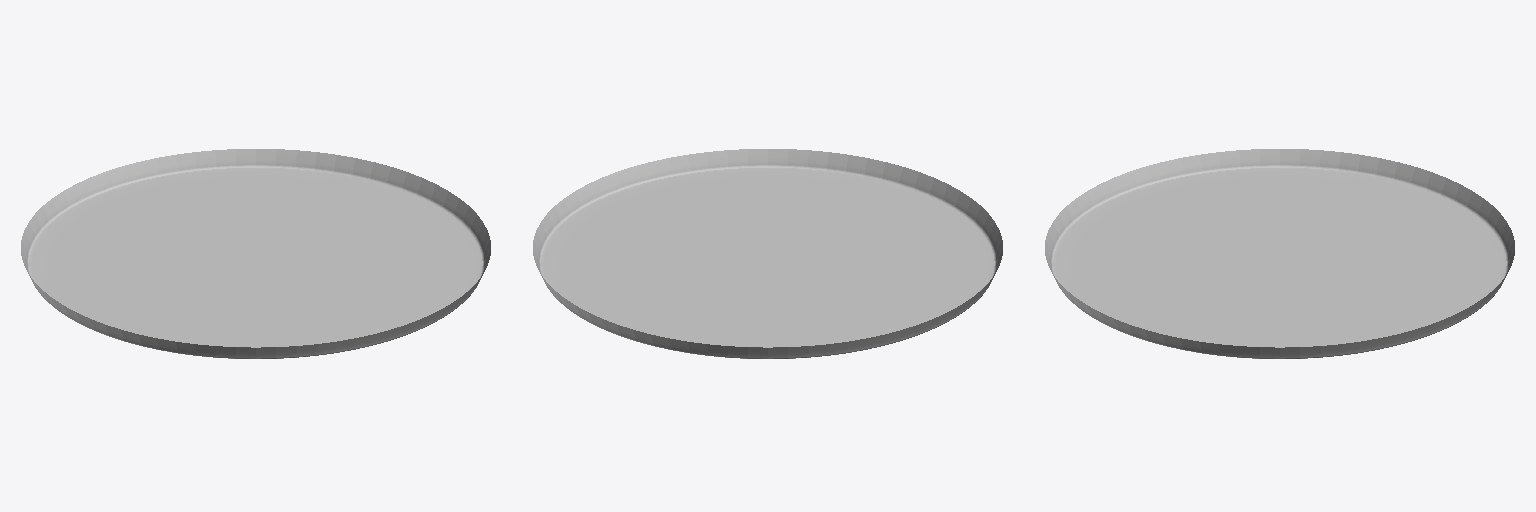
File: Foco01.obj
3 renders of one model, left to right at view 1: azimuth 30°, elevation 25°; view 2: azimuth 150°, elevation 25°; view 3: azimuth 270°, elevation 25°, orthographic.
Visible parts, largest first — view 1: Cylinder004; view 2: Cylinder004; view 3: Cylinder004.
Boxes of the visible parts, box(x1,y1,x2,y2) form: Cylinder004: box(21, 149, 490, 358); Cylinder004: box(533, 149, 1002, 358); Cylinder004: box(1045, 149, 1514, 358).
Bounding box in the file's own units: 1.79 × 0.066 × 1.79.